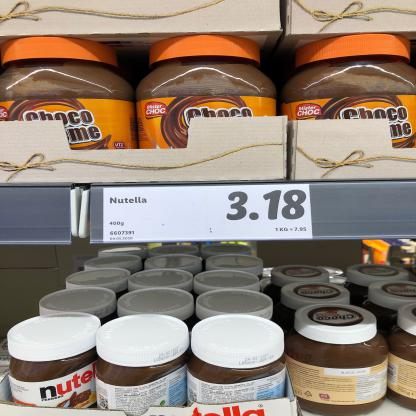prtg: (104, 185, 314, 243)
